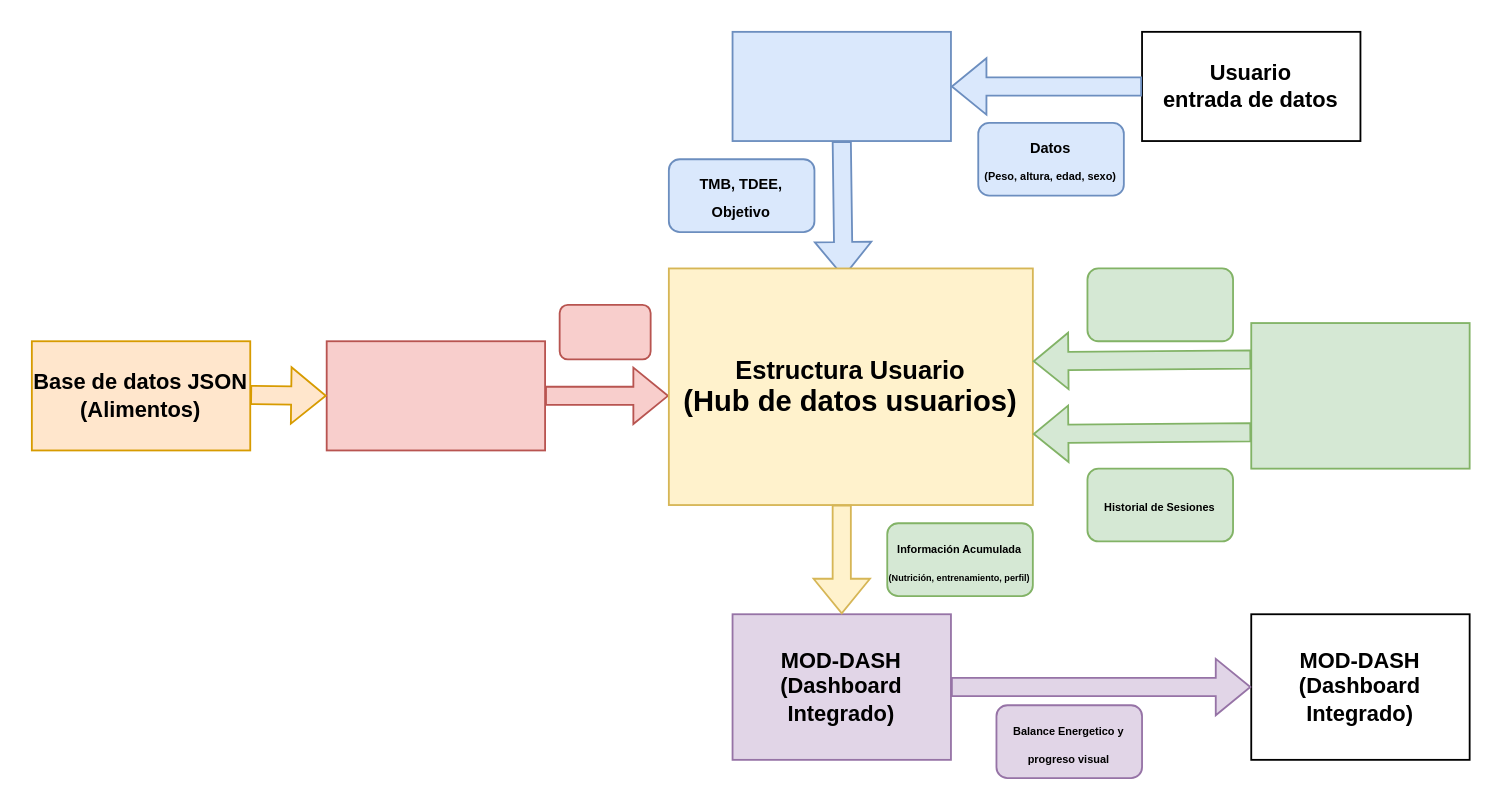
This 1502x810 diagram has some shape labels left out. Each missing label, with the box of its shape:
macros: (558, 303, 651, 359)
MOD-ENT (Módulo de Entrenamiento): (1249, 321, 1470, 469)
MOD-NUT (Módulo de nutricion): (325, 339, 545, 450)
MOD-USR (Módulo de Perfil de Usuario): (731, 30, 951, 141)
Planificación Semanal (Pesas/Cardio): (1086, 267, 1233, 341)
